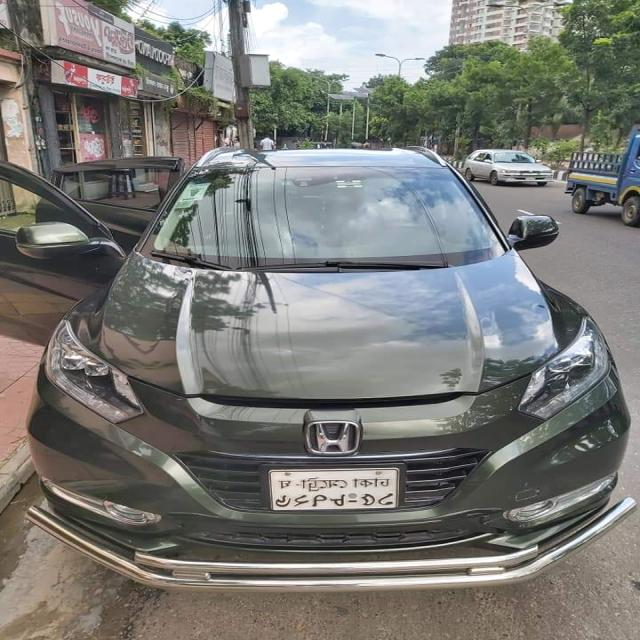black: (0, 129, 640, 566)
